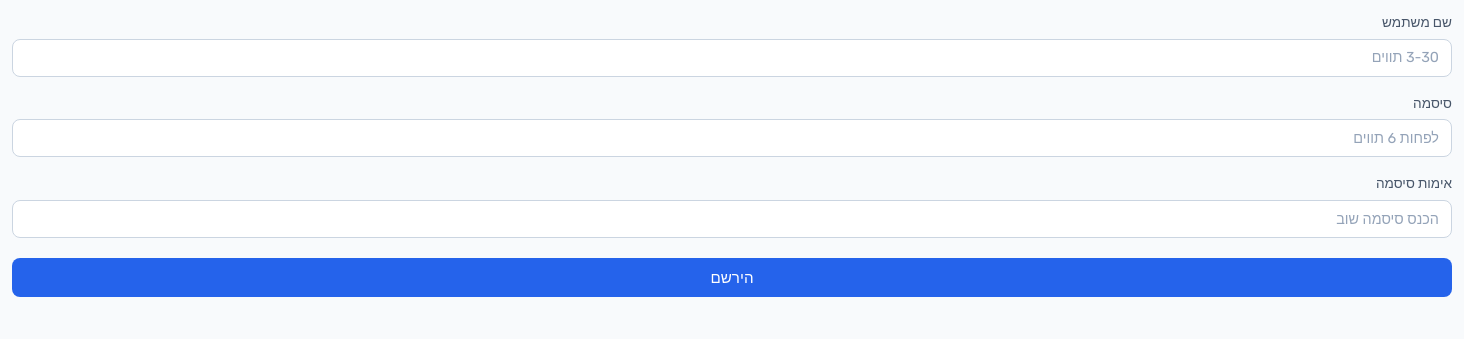
Test: RegisterForm › shows validation error for short password
Type "12345" into the password field labelled "סיסמה" at (732, 138), box 12,119 -> 1452,158
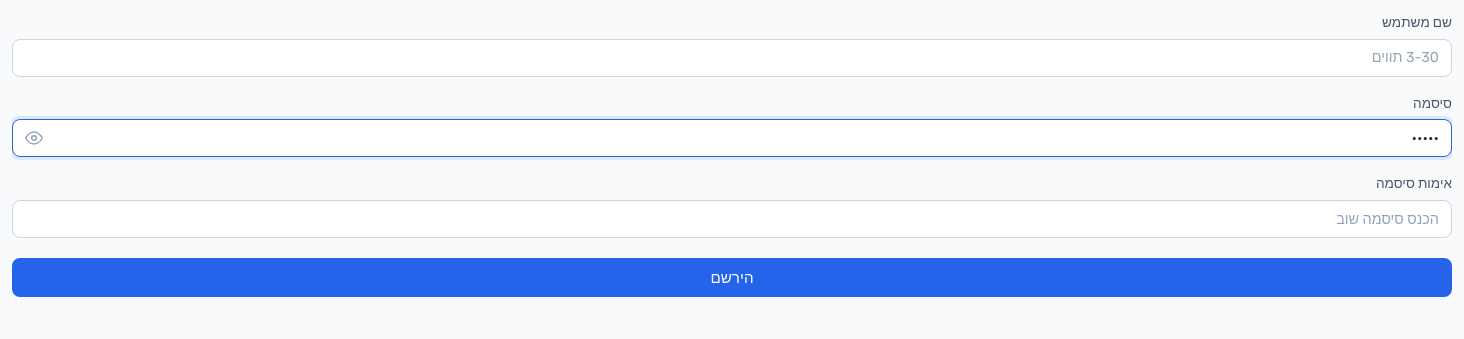
Leave the password field labelled "סיסמה", box 12,119 -> 1452,158
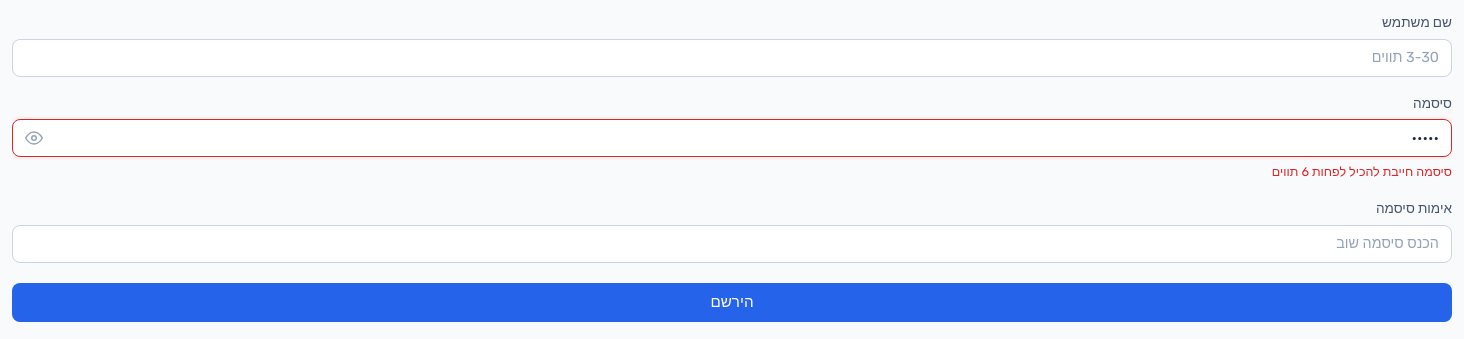
Expected: the text "סיסמה חייבת להכיל לפחות 6 תווים" is shown, 1272,164 -> 1452,179
